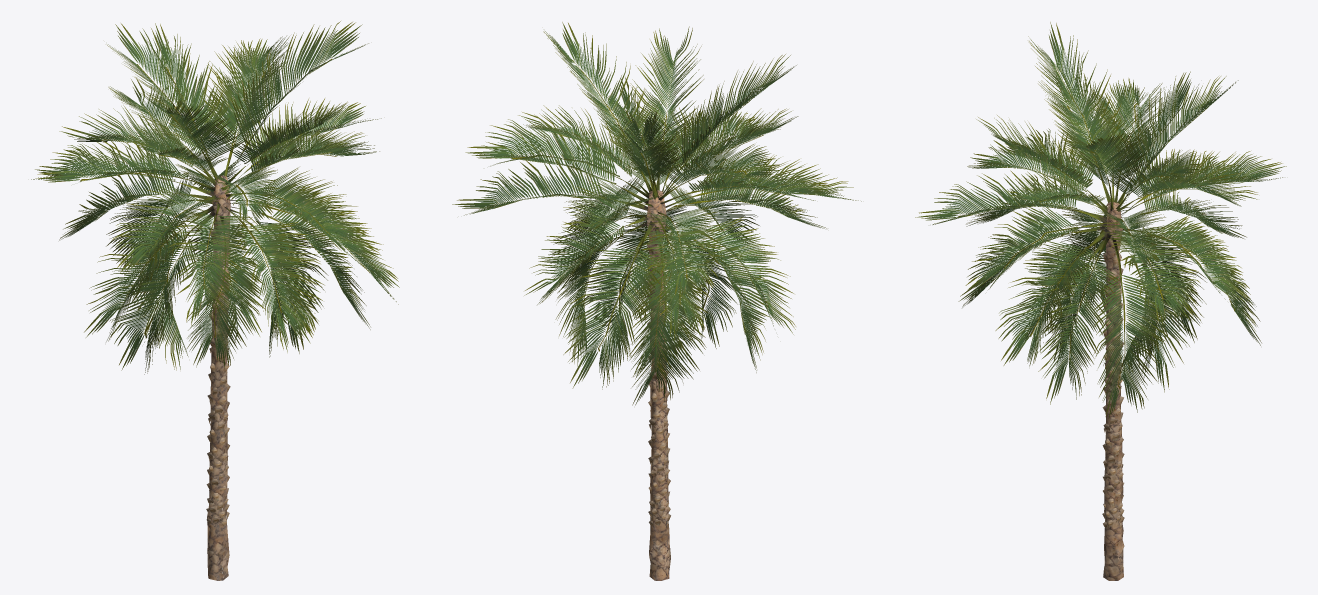
Rendered from palm-date.glb.
3 renders of one model, left to right at view 1: azimuth 30°, elevation 25°; view 2: azimuth 150°, elevation 25°; view 3: azimuth 270°, elevation 25°, orthographic. The views are drawn at different scales.
Visible parts, largest first — view 1: palm-date; view 2: palm-date; view 3: palm-date.
Boxes of the visible parts, x1,y1,x2,y2 form: palm-date: (31,21,399,580); palm-date: (452,22,861,580); palm-date: (915,22,1286,580).
Size of the model in its own units: 10.41 by 14 by 9.95.
Materials: 4 (4 with a texture image).
